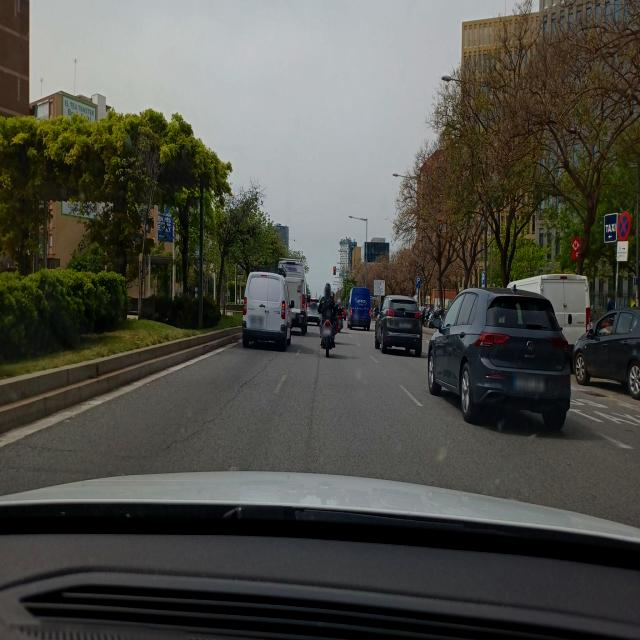bike: (319, 306, 337, 356)
car: (427, 286, 572, 430), (572, 306, 640, 402), (242, 265, 292, 351), (374, 293, 423, 357), (347, 286, 372, 330), (306, 298, 321, 325), (421, 306, 433, 326)
